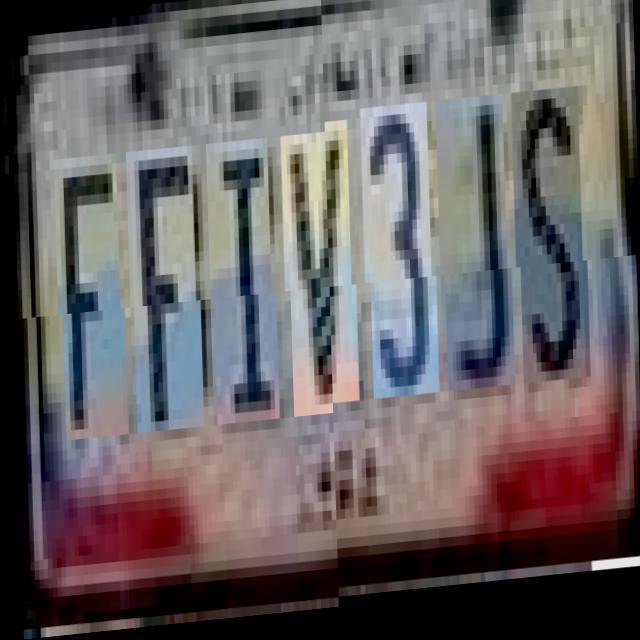3: (364, 120, 437, 417)
F: (128, 150, 202, 436), (57, 156, 126, 442)
I: (208, 143, 277, 430)
J: (440, 114, 512, 410)
S: (515, 108, 588, 404)
V: (284, 137, 357, 423)
